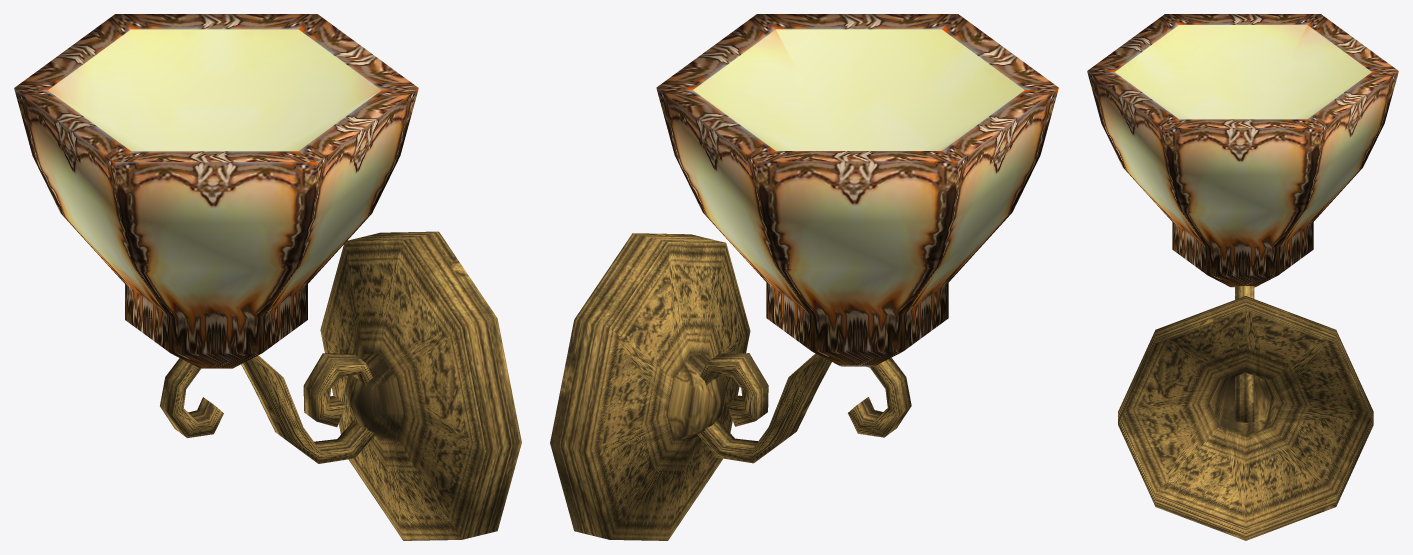
The model's file is WallSconceElectric.fbx.
The picture shows the model from 3 angles, left to right: view 1: azimuth 30°, elevation 25°; view 2: azimuth 150°, elevation 25°; view 3: azimuth 270°, elevation 25°; orthographic projection. The views are drawn at different scales.
Parts seen in each view (by area): view 1: WallSconce; view 2: WallSconce; view 3: WallSconce.
Part boxes in pixels (x1,y1,x2,y2): WallSconce: [14, 14, 521, 540]; WallSconce: [550, 14, 1058, 540]; WallSconce: [1087, 14, 1398, 540].
Size of the model in its own units: 178 by 227 by 166.
